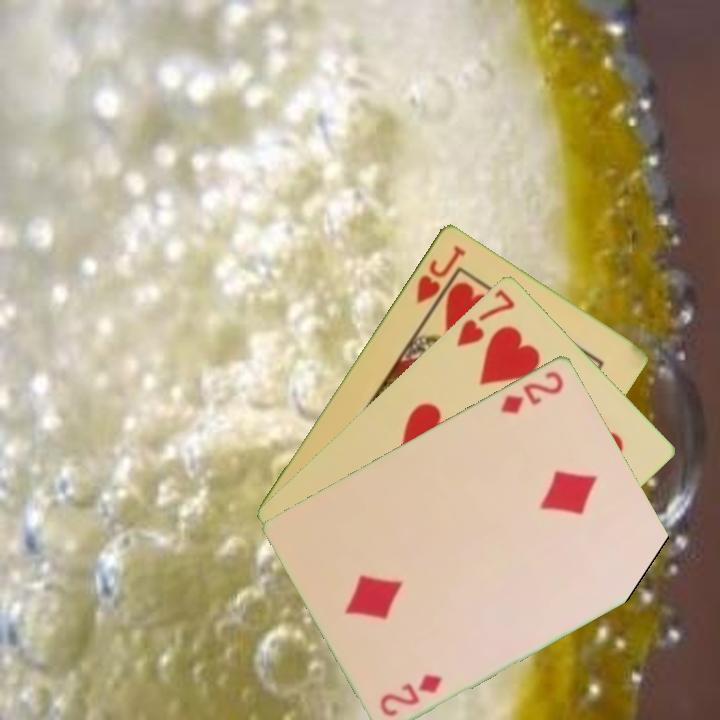2d: (496, 366, 567, 416), (376, 669, 446, 719)
7h: (453, 285, 518, 349)
Jh: (412, 241, 469, 307)
